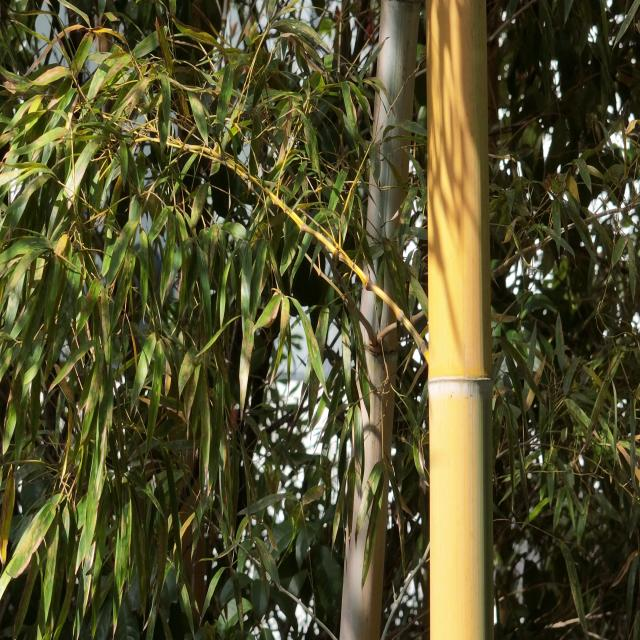Bamboo-shoots: (426, 0, 493, 640)
